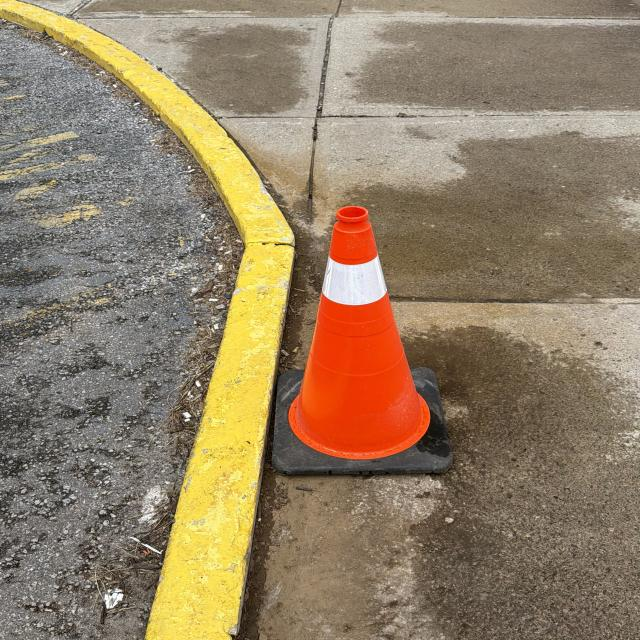Traffic Cone: (269, 204, 458, 478)
